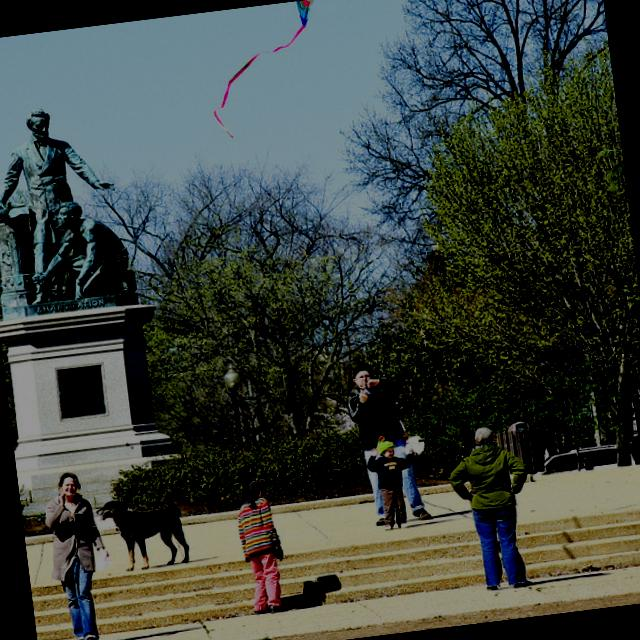Vehicle: (542, 440, 638, 476)
